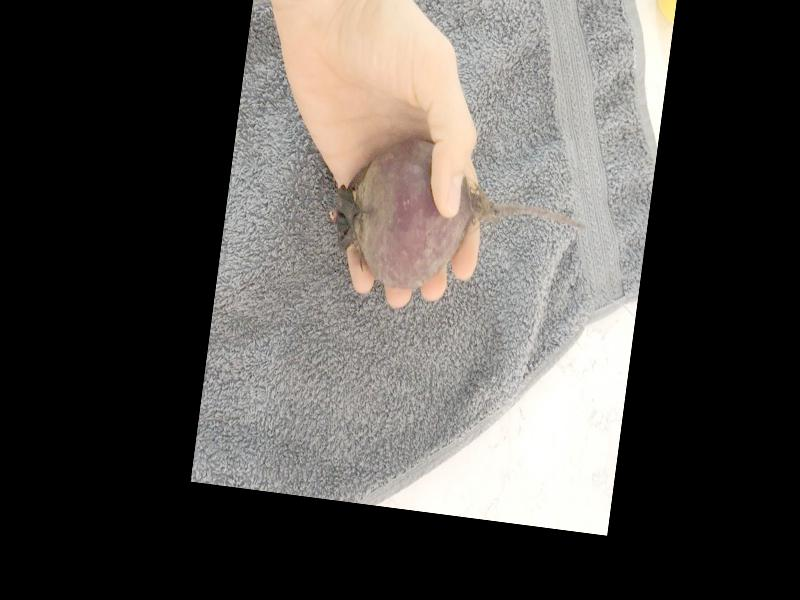Beet: (326, 128, 593, 312)
